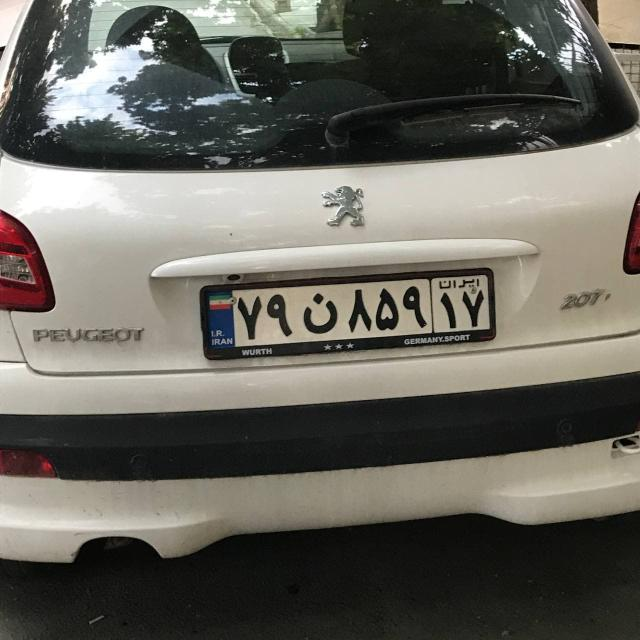Plates: (206, 273, 490, 347)
